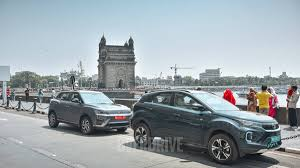Tata Nexon: (130, 90, 283, 165)
